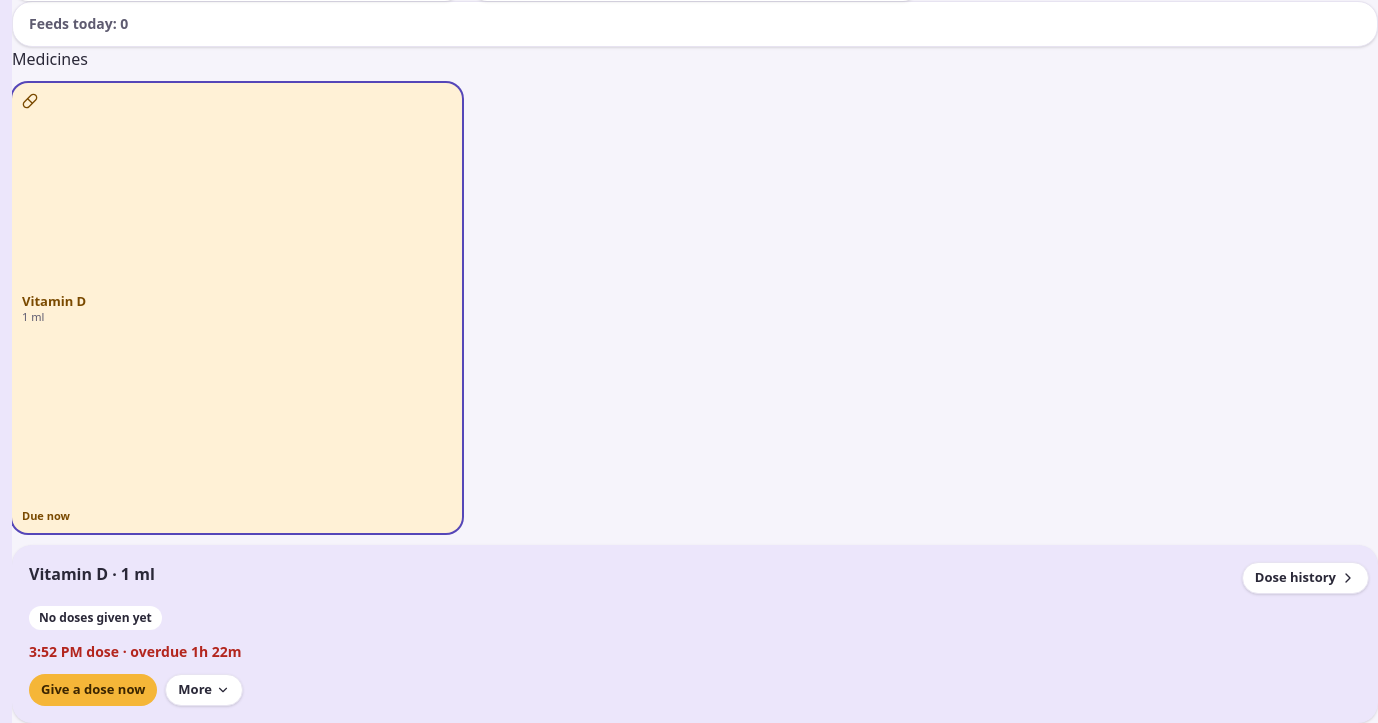
a dose nothing was given for says how late it is, and keeps its extra choices under More
(page scrolled)
Expected: the button "Give a dose now" is shown, [29,674,157,706]
Expected: the button "Partial dose" is not shown
Click the button "More".
click(204, 690)  # box [165,674,243,706]
(page scrolled)
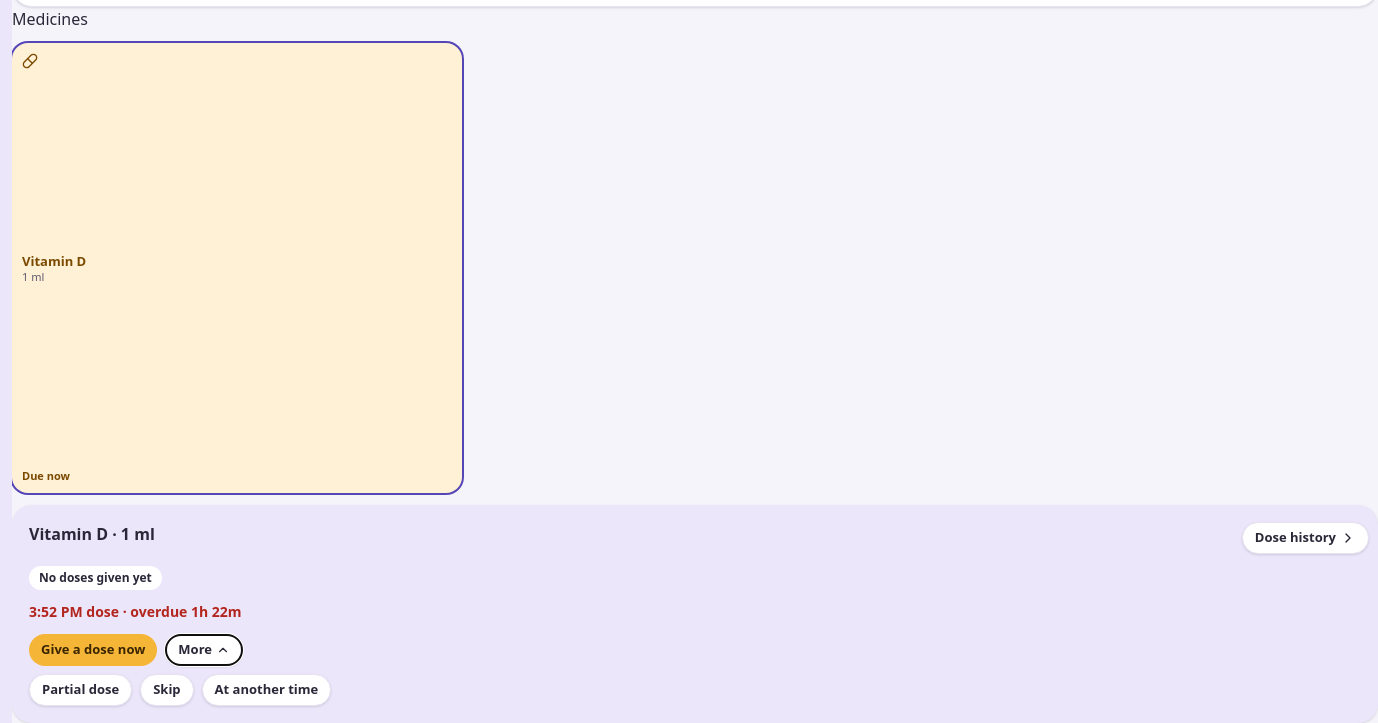
Result: the button "Partial dose" is shown at [29,674,132,706]
Result: the button "Skip" is shown at [140,674,194,706]
Result: the button "At another time" is shown at [202,674,331,706]
